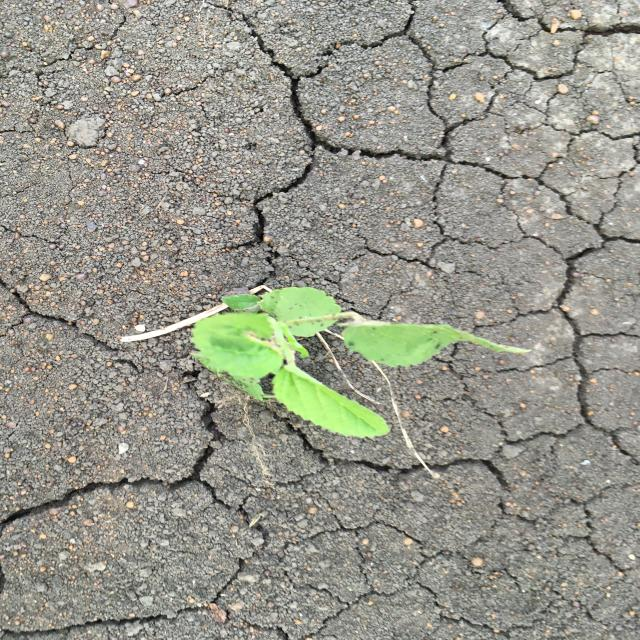PricklySida: (187, 284, 537, 440)
